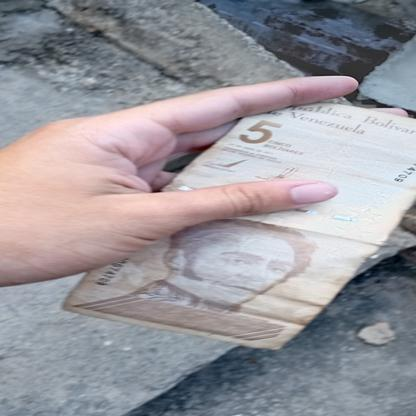five-front-vef: (61, 100, 416, 350)
